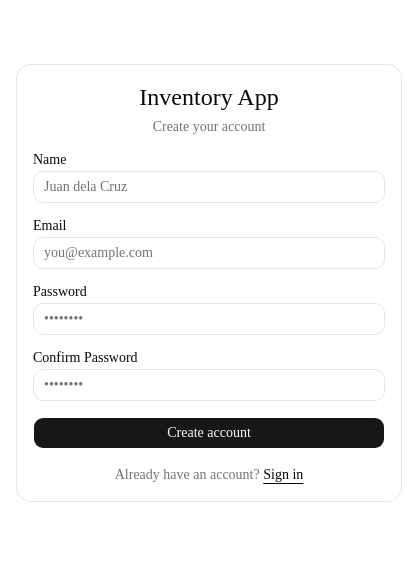
RegisterPage › shows validation errors on empty submit
Click the button "Create account" at x=209, y=433, box [33,417,385,449]
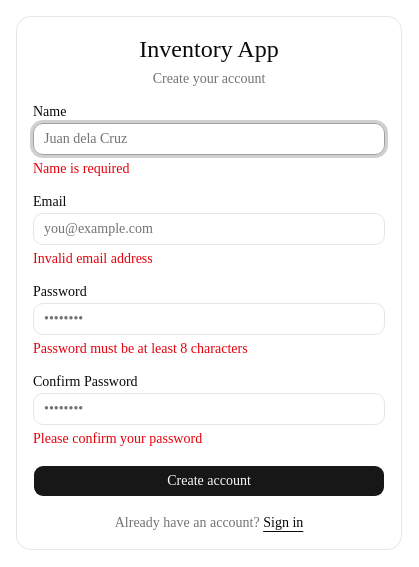
Expected: the text "Name is required" is shown, [33,161,129,176]
Expected: the text "Invalid email address" is shown, [33,251,153,266]
Expected: the text "Password must be at least 8 characters" is shown, [33,341,248,356]
